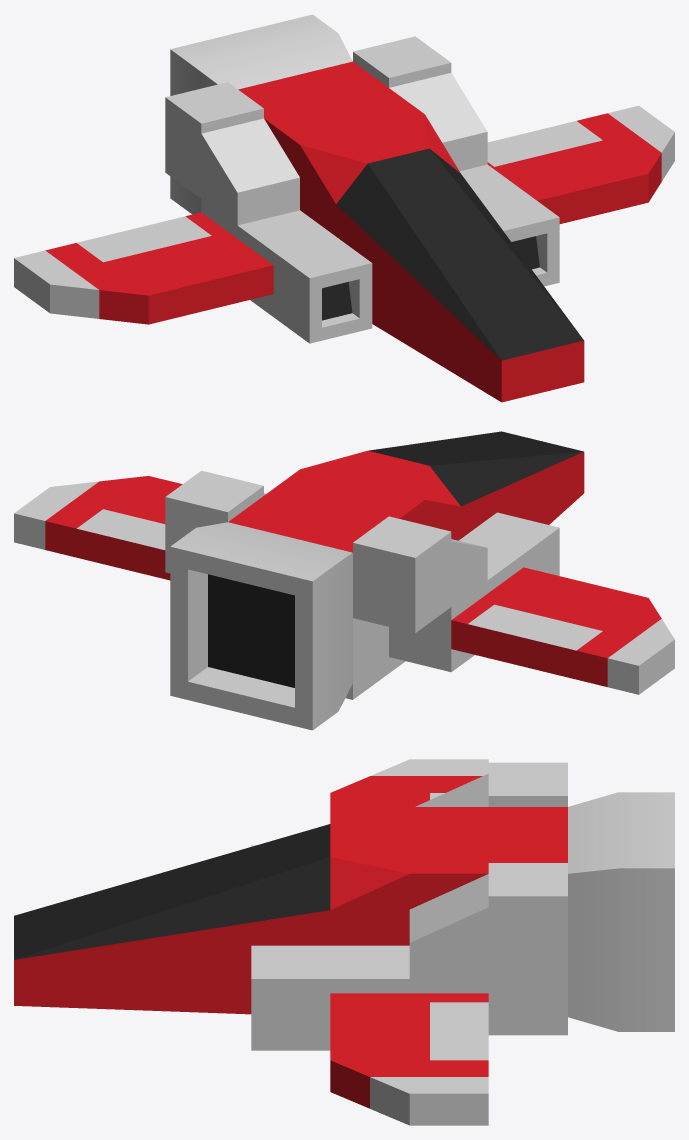
Rendered from ship.glb.
3 renders of one model, top to bottom at view 1: azimuth 30°, elevation 25°; view 2: azimuth 150°, elevation 25°; view 3: azimuth 270°, elevation 25°, orthographic. The views are drawn at different scales.
Parts seen in each view (by area): view 1: spaceCraft1_8angles; view 2: spaceCraft1_8angles; view 3: spaceCraft1_8angles.
Part boxes in pixels (x1=…): spaceCraft1_8angles: x1=14, y1=14, x2=674, y2=402; spaceCraft1_8angles: x1=14, y1=431, x2=674, y2=730; spaceCraft1_8angles: x1=14, y1=759, x2=674, y2=1125.
Size of the model in its own units: 19.75 by 4.75 by 16.5.
